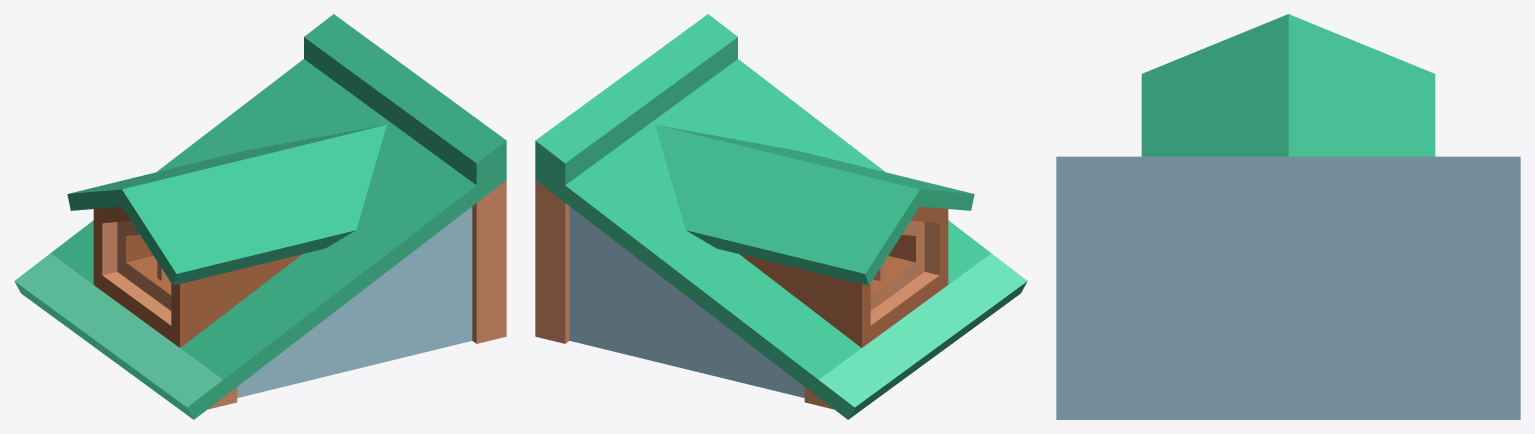
Rendered from roofWindow.fbx.
3 renders of one model, left to right at view 1: azimuth 30°, elevation 25°; view 2: azimuth 150°, elevation 25°; view 3: azimuth 270°, elevation 25°, orthographic. The views are drawn at different scales.
Visible parts, largest first — view 1: roofWindow; view 2: roofWindow; view 3: roofWindow.
Boxes of the visible parts, x1,y1,x2,y2 form: roofWindow: (14, 14, 506, 419); roofWindow: (535, 14, 1027, 419); roofWindow: (1056, 14, 1520, 419).
Size of the model in its own units: 10.67 by 6.48 by 10.
